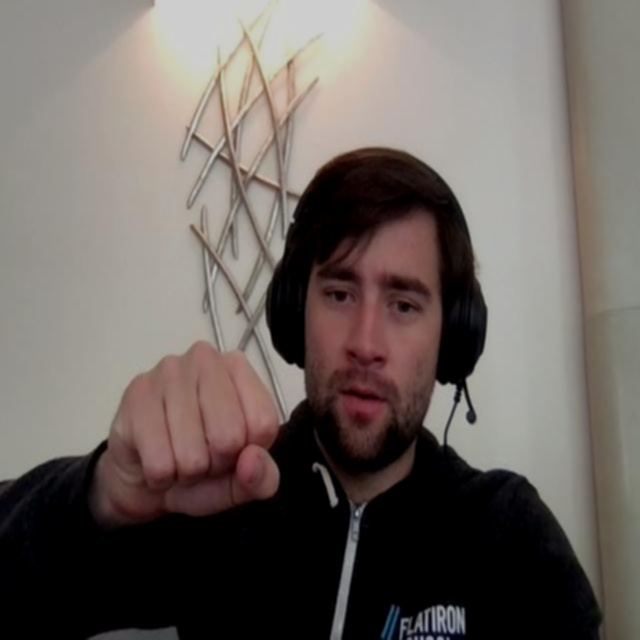Rock: (104, 343, 279, 517)
